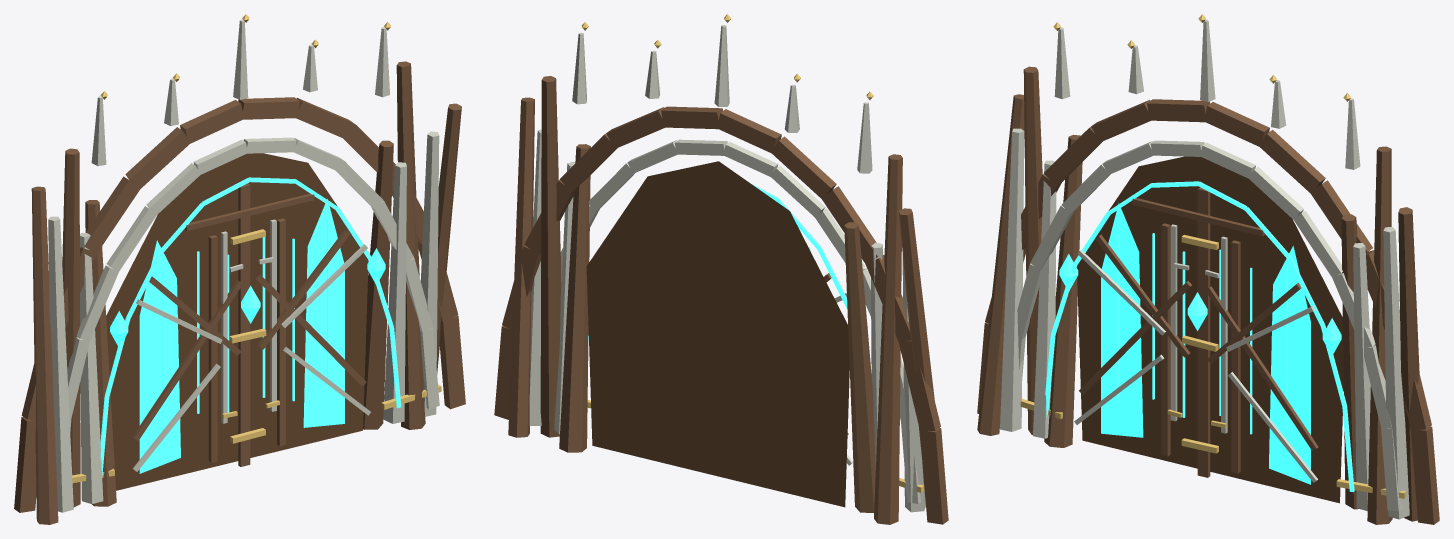
File: elarthalas_silent_gate.glb
3 views of the same model, side by side, from view 1: azimuth 30°, elevation 25°; view 2: azimuth 150°, elevation 25°; view 3: azimuth 330°, elevation 25° (orthographic). The views are drawn at different scales.
Visible parts, largest first — view 1: PREFAB_elarthalas_silent_gate_00_ELAR_ArchiveCity_SilentGate, PREFAB_elarthalas_silent_gate_02_ELAR_ArchiveCity_SilentGate, PREFAB_elarthalas_silent_gate_01_ELAR_ArchiveCity_SilentGate, PREFAB_elarthalas_silent_gate_54_ELAR_ArchiveCity_SilentGate, PREFAB_elarthalas_silent_gate_60_ELAR_ArchiveCity_SilentGate, PREFAB_elarthalas_silent_gate_59_ELAR_ArchiveCity_SilentGate, PREFAB_elarthalas_silent_gate_56_ELAR_ArchiveCity_SilentGate, PREFAB_elarthalas_silent_gate_53_ELAR_ArchiveCity_SilentGate, PREFAB_elarthalas_silent_gate_62_ELAR_ArchiveCity_SilentGate, PREFAB_elarthalas_silent_gate_55_ELAR_ArchiveCity_SilentGate, PREFAB_elarthalas_silent_gate_63_ELAR_ArchiveCity_SilentGate, PREFAB_elarthalas_silent_gate_03_ELAR_ArchiveCity_SilentGate (+40 smaller); view 2: PREFAB_elarthalas_silent_gate_00_ELAR_ArchiveCity_SilentGate, PREFAB_elarthalas_silent_gate_53_ELAR_ArchiveCity_SilentGate, PREFAB_elarthalas_silent_gate_60_ELAR_ArchiveCity_SilentGate, PREFAB_elarthalas_silent_gate_59_ELAR_ArchiveCity_SilentGate, PREFAB_elarthalas_silent_gate_52_ELAR_ArchiveCity_SilentGate, PREFAB_elarthalas_silent_gate_61_ELAR_ArchiveCity_SilentGate, PREFAB_elarthalas_silent_gate_54_ELAR_ArchiveCity_SilentGate, PREFAB_elarthalas_silent_gate_63_ELAR_ArchiveCity_SilentGate, PREFAB_elarthalas_silent_gate_18_ELAR_ArchiveCity_SilentGate, PREFAB_elarthalas_silent_gate_56_ELAR_ArchiveCity_SilentGate, PREFAB_elarthalas_silent_gate_62_ELAR_ArchiveCity_SilentGate, PREFAB_elarthalas_silent_gate_19_ELAR_ArchiveCity_SilentGate (+23 smaller); view 3: PREFAB_elarthalas_silent_gate_00_ELAR_ArchiveCity_SilentGate, PREFAB_elarthalas_silent_gate_01_ELAR_ArchiveCity_SilentGate, PREFAB_elarthalas_silent_gate_02_ELAR_ArchiveCity_SilentGate, PREFAB_elarthalas_silent_gate_52_ELAR_ArchiveCity_SilentGate, PREFAB_elarthalas_silent_gate_56_ELAR_ArchiveCity_SilentGate, PREFAB_elarthalas_silent_gate_54_ELAR_ArchiveCity_SilentGate, PREFAB_elarthalas_silent_gate_60_ELAR_ArchiveCity_SilentGate, PREFAB_elarthalas_silent_gate_63_ELAR_ArchiveCity_SilentGate, PREFAB_elarthalas_silent_gate_53_ELAR_ArchiveCity_SilentGate, PREFAB_elarthalas_silent_gate_61_ELAR_ArchiveCity_SilentGate, PREFAB_elarthalas_silent_gate_62_ELAR_ArchiveCity_SilentGate, PREFAB_elarthalas_silent_gate_55_ELAR_ArchiveCity_SilentGate (+40 smaller).
Part boxes in pixels (<box>): PREFAB_elarthalas_silent_gate_00_ELAR_ArchiveCity_SilentGate: <box>106,153,368,490</box>; PREFAB_elarthalas_silent_gate_02_ELAR_ArchiveCity_SilentGate: <box>303,199,344,427</box>; PREFAB_elarthalas_silent_gate_01_ELAR_ArchiveCity_SilentGate: <box>139,240,180,473</box>; PREFAB_elarthalas_silent_gate_54_ELAR_ArchiveCity_SilentGate: <box>31,186,58,524</box>; PREFAB_elarthalas_silent_gate_60_ELAR_ArchiveCity_SilentGate: <box>396,61,425,429</box>; PREFAB_elarthalas_silent_gate_59_ELAR_ArchiveCity_SilentGate: <box>363,140,393,429</box>; PREFAB_elarthalas_silent_gate_56_ELAR_ArchiveCity_SilentGate: <box>48,216,73,512</box>; PREFAB_elarthalas_silent_gate_53_ELAR_ArchiveCity_SilentGate: <box>62,148,80,507</box>; PREFAB_elarthalas_silent_gate_62_ELAR_ArchiveCity_SilentGate: <box>383,162,406,423</box>; PREFAB_elarthalas_silent_gate_55_ELAR_ArchiveCity_SilentGate: <box>80,233,103,503</box>; PREFAB_elarthalas_silent_gate_63_ELAR_ArchiveCity_SilentGate: <box>420,131,439,416</box>; PREFAB_elarthalas_silent_gate_03_ELAR_ArchiveCity_SilentGate: <box>238,183,250,466</box>; PREFAB_elarthalas_silent_gate_00_ELAR_ArchiveCity_SilentGate: <box>586,161,849,507</box>; PREFAB_elarthalas_silent_gate_53_ELAR_ArchiveCity_SilentGate: <box>874,154,902,524</box>; PREFAB_elarthalas_silent_gate_60_ELAR_ArchiveCity_SilentGate: <box>540,76,561,437</box>; PREFAB_elarthalas_silent_gate_59_ELAR_ArchiveCity_SilentGate: <box>559,144,590,452</box>; PREFAB_elarthalas_silent_gate_52_ELAR_ArchiveCity_SilentGate: <box>844,222,875,512</box>; PREFAB_elarthalas_silent_gate_61_ELAR_ArchiveCity_SilentGate: <box>508,97,534,437</box>; PREFAB_elarthalas_silent_gate_54_ELAR_ArchiveCity_SilentGate: <box>899,208,934,507</box>; PREFAB_elarthalas_silent_gate_63_ELAR_ArchiveCity_SilentGate: <box>529,129,541,425</box>; PREFAB_elarthalas_silent_gate_18_ELAR_ArchiveCity_SilentGate: <box>920,428,948,524</box>; PREFAB_elarthalas_silent_gate_56_ELAR_ArchiveCity_SilentGate: <box>902,255,925,512</box>; PREFAB_elarthalas_silent_gate_62_ELAR_ArchiveCity_SilentGate: <box>554,161,575,434</box>; PREFAB_elarthalas_silent_gate_19_ELAR_ArchiveCity_SilentGate: <box>898,340,940,430</box>; PREFAB_elarthalas_silent_gate_00_ELAR_ArchiveCity_SilentGate: <box>1077,156,1343,503</box>; PREFAB_elarthalas_silent_gate_01_ELAR_ArchiveCity_SilentGate: <box>1101,203,1143,437</box>; PREFAB_elarthalas_silent_gate_02_ELAR_ArchiveCity_SilentGate: <box>1269,245,1310,484</box>; PREFAB_elarthalas_silent_gate_52_ELAR_ArchiveCity_SilentGate: <box>1044,134,1082,447</box>; PREFAB_elarthalas_silent_gate_56_ELAR_ArchiveCity_SilentGate: <box>1000,128,1024,431</box>; PREFAB_elarthalas_silent_gate_54_ELAR_ArchiveCity_SilentGate: <box>977,94,1024,435</box>; PREFAB_elarthalas_silent_gate_60_ELAR_ArchiveCity_SilentGate: <box>1367,146,1392,524</box>; PREFAB_elarthalas_silent_gate_63_ELAR_ArchiveCity_SilentGate: <box>1383,227,1409,519</box>; PREFAB_elarthalas_silent_gate_53_ELAR_ArchiveCity_SilentGate: <box>1023,66,1042,434</box>; PREFAB_elarthalas_silent_gate_61_ELAR_ArchiveCity_SilentGate: <box>1398,207,1419,521</box>; PREFAB_elarthalas_silent_gate_62_ELAR_ArchiveCity_SilentGate: <box>1353,243,1370,510</box>; PREFAB_elarthalas_silent_gate_55_ELAR_ArchiveCity_SilentGate: <box>1033,160,1056,438</box>.
Bounding box in the file's own units: 15.44 × 15.07 × 1.96.
